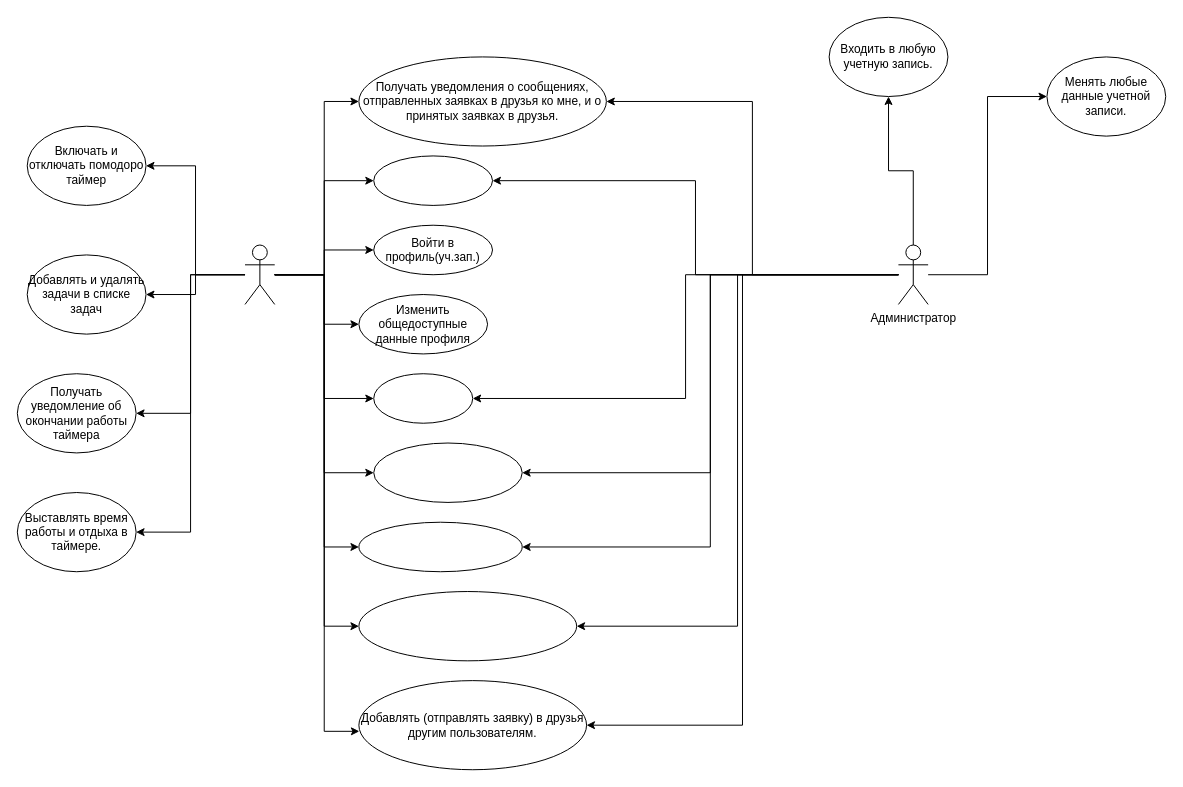
This 1183x787 diagram has some shape labels left out. The centre of each missing label's shape, as x and y in pixels:
"Написать сообщение другому пользователю" goes at point 440,546.
"Оставить комментарий под любым постом, фотографией." goes at point 467,626.
"Пользователь" goes at point 259,274.
"Создать пост" goes at point 423,398.
"Создать профиль(уч. зап.)" goes at point 433,180.
"Установить(поменять ) фотографию профиля" goes at point 447,472.
